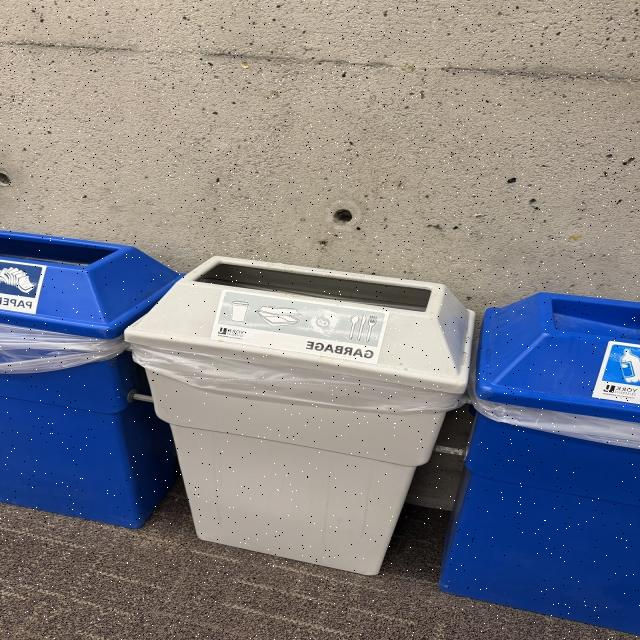Dustbin: (0, 233, 640, 633)
